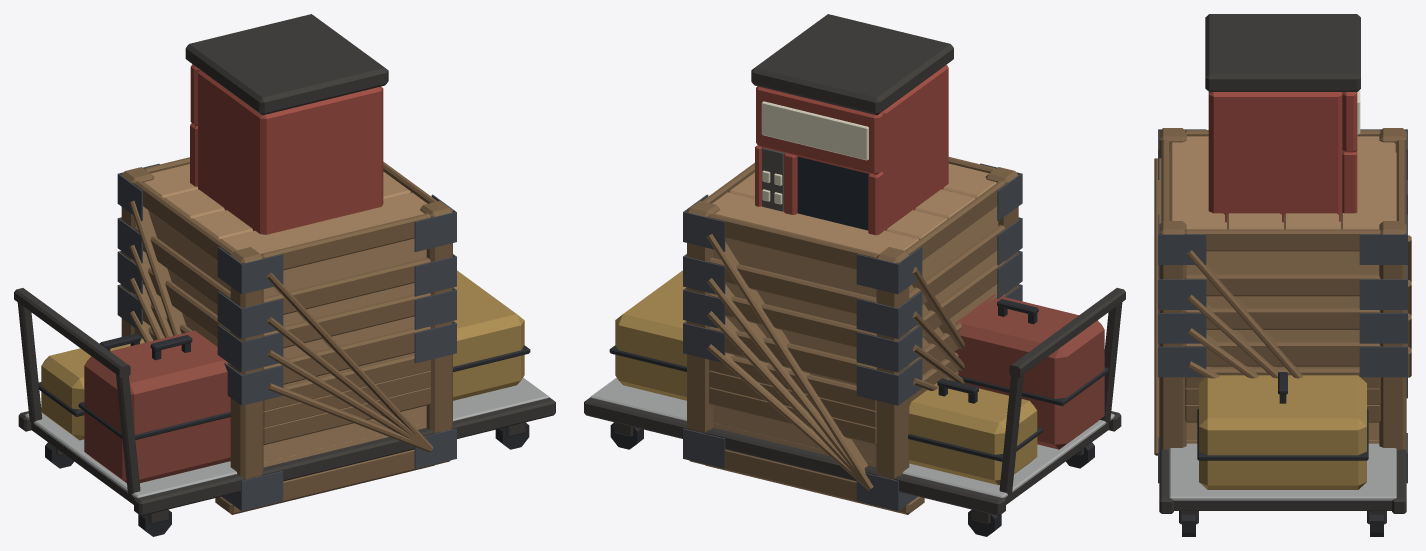
Rendered from Kit.fbx.
3 views of the same model, side by side, from view 1: azimuth 30°, elevation 25°; view 2: azimuth 150°, elevation 25°; view 3: azimuth 270°, elevation 25° (orthographic).
Visible parts, largest first — view 1: Vending_V_Paint, LuggageCart_L_Case1, CrateA_6_P_Wood, LuggageCart_V_Trim, CrateA_6_P_WoodDark, Vending_V_Trim, CrateA_35_P_WoodDark, LuggageCart_L_Case2, CrateA_5_P_WoodDark, CrateA_425_P_WoodDark, CrateB_35_P_Metal, LuggageCart_G_Steel (+11 smaller); view 2: LuggageCart_L_Case2, CrateA_6_P_Wood, Vending_V_Paint, CrateA_6_P_WoodDark, LuggageCart_V_Trim, LuggageCart_L_Case1, Vending_V_Trim, CrateA_5_P_WoodDark, CrateA_35_P_WoodDark, CrateA_425_P_WoodDark, CrateB_35_P_Metal, LuggageCart_T_Rubber (+14 smaller); view 3: Vending_V_Paint, LuggageCart_L_Case2, CrateA_6_P_Wood, CrateA_6_P_WoodDark, Vending_V_Trim, CrateA_35_P_WoodDark, CrateA_5_P_WoodDark, LuggageCart_G_Steel, CrateA_425_P_WoodDark, LuggageCart_V_Trim, CrateB_6_P_Metal, CrateB_35_P_Metal (+10 smaller).
Boxes of the visible parts, bbox=[...] form: Vending_V_Paint: bbox=[190, 64, 383, 234]; LuggageCart_L_Case1: bbox=[84, 330, 230, 483]; CrateA_6_P_Wood: bbox=[143, 164, 427, 456]; LuggageCart_V_Trim: bbox=[14, 288, 555, 523]; CrateA_6_P_WoodDark: bbox=[121, 157, 452, 478]; Vending_V_Trim: bbox=[185, 14, 388, 115]; CrateA_35_P_WoodDark: bbox=[121, 294, 452, 514]; LuggageCart_L_Case2: bbox=[41, 270, 524, 440]; CrateA_5_P_WoodDark: bbox=[125, 226, 452, 478]; CrateA_425_P_WoodDark: bbox=[121, 260, 452, 479]; CrateB_35_P_Metal: bbox=[117, 284, 456, 511]; LuggageCart_G_Steel: bbox=[25, 377, 548, 497]; LuggageCart_L_Case2: bbox=[615, 270, 1037, 485]; CrateA_6_P_Wood: bbox=[712, 163, 998, 460]; Vending_V_Paint: bbox=[755, 65, 948, 235]; CrateA_6_P_WoodDark: bbox=[687, 157, 1018, 488]; LuggageCart_V_Trim: bbox=[584, 288, 1125, 523]; LuggageCart_L_Case1: bbox=[954, 294, 1104, 449]; Vending_V_Trim: bbox=[751, 14, 953, 115]; CrateA_5_P_WoodDark: bbox=[687, 225, 1005, 483]; CrateA_35_P_WoodDark: bbox=[687, 294, 1007, 514]; CrateA_425_P_WoodDark: bbox=[687, 260, 1016, 486]; CrateB_35_P_Metal: bbox=[683, 284, 1022, 511]; LuggageCart_T_Rubber: bbox=[609, 299, 1108, 536]; Vending_V_Paint: bbox=[1208, 92, 1357, 222]; LuggageCart_L_Case2: bbox=[1199, 375, 1366, 489]; CrateA_6_P_Wood: bbox=[1169, 136, 1396, 340]; CrateA_6_P_WoodDark: bbox=[1154, 128, 1411, 453]; Vending_V_Trim: bbox=[1205, 14, 1360, 91]; CrateA_35_P_WoodDark: bbox=[1154, 341, 1411, 455]; CrateA_5_P_WoodDark: bbox=[1159, 188, 1411, 449]; LuggageCart_G_Steel: bbox=[1169, 443, 1396, 500]; CrateA_425_P_WoodDark: bbox=[1159, 223, 1411, 449]; LuggageCart_V_Trim: bbox=[1159, 449, 1406, 524]; CrateB_6_P_Metal: bbox=[1158, 129, 1407, 264]; CrateB_35_P_Metal: bbox=[1158, 343, 1407, 483].
Bounding box in the file's own units: 10.08 × 9 × 5.2.
